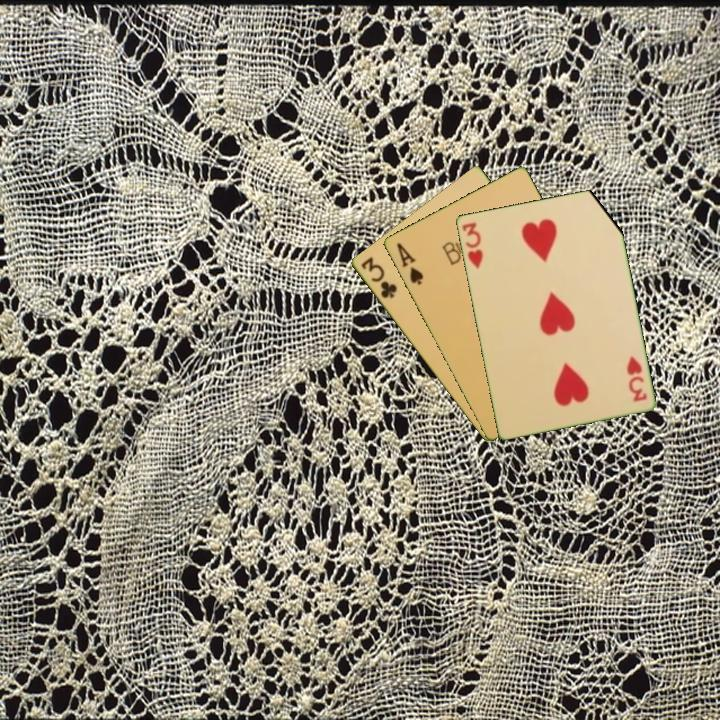3c: (357, 253, 400, 301)
3h: (458, 219, 485, 271), (623, 352, 649, 404)
As: (393, 239, 426, 288)
